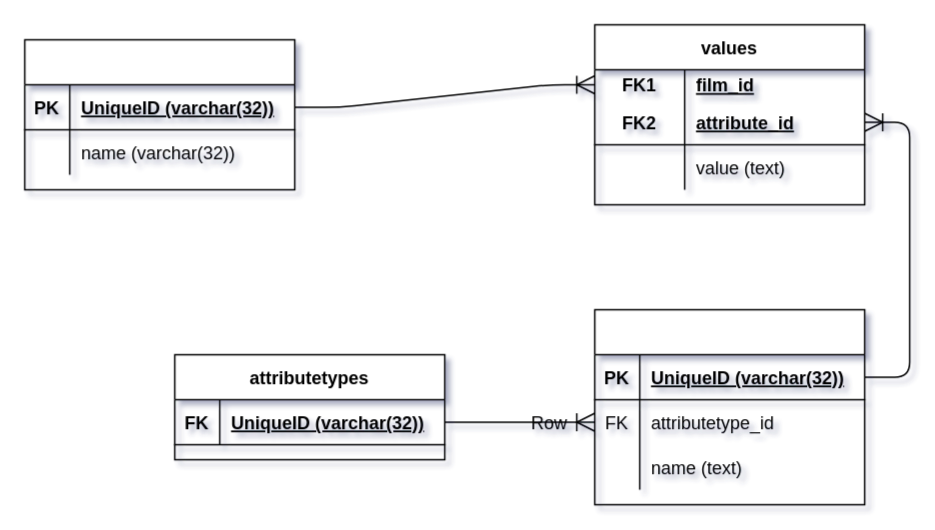
This 935x530 diagram has some shape labels left out. The shapes that lost their labels are listed below. From the top down, each one's box as (x1, y1, x2, y2) in pixels, then its label:
(23, 38, 295, 190): films
(593, 308, 865, 505): attributes
